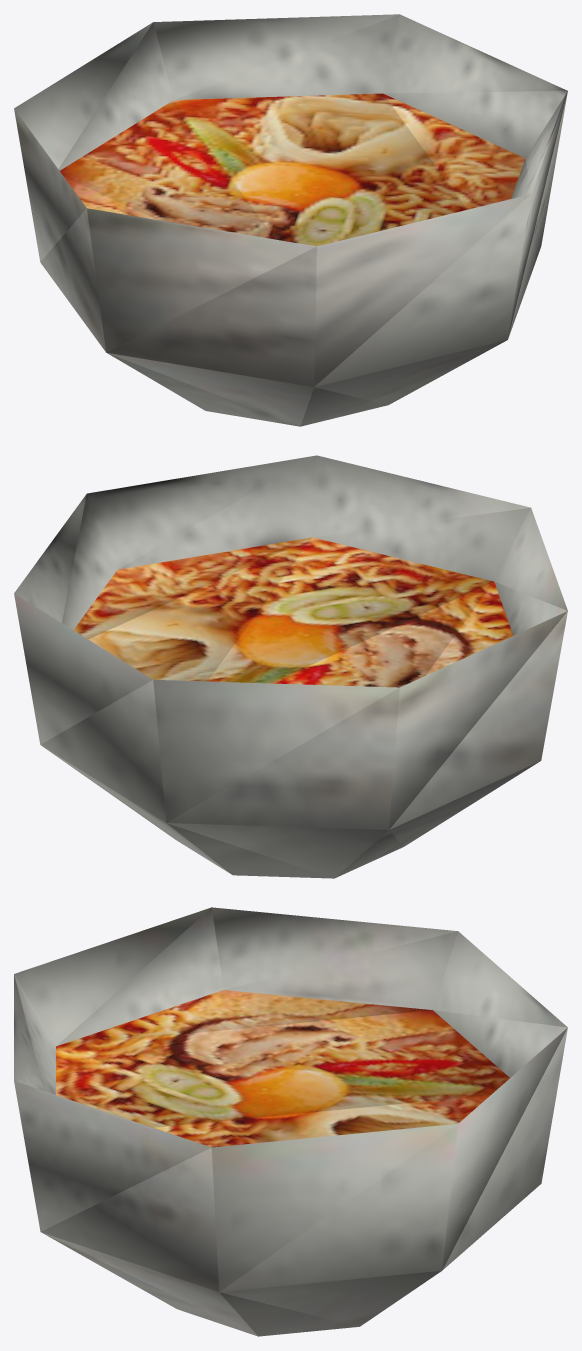
Rendered from prato_comida.glb.
The picture shows the model from 3 angles, top to bottom: view 1: azimuth 30°, elevation 25°; view 2: azimuth 150°, elevation 25°; view 3: azimuth 270°, elevation 25°; orthographic projection. The views are drawn at different scales.
Parts seen in each view (by area): view 1: prato_comida; view 2: prato_comida; view 3: prato_comida.
Part boxes in pixels (x1,y1,x2,y2): prato_comida: (14,14,567,426); prato_comida: (14,455,567,878); prato_comida: (14,907,567,1336).
Bounding box in the file's own units: 0.1388 × 0.07 × 0.1353.
Materials: 1 (1 with a texture image).
